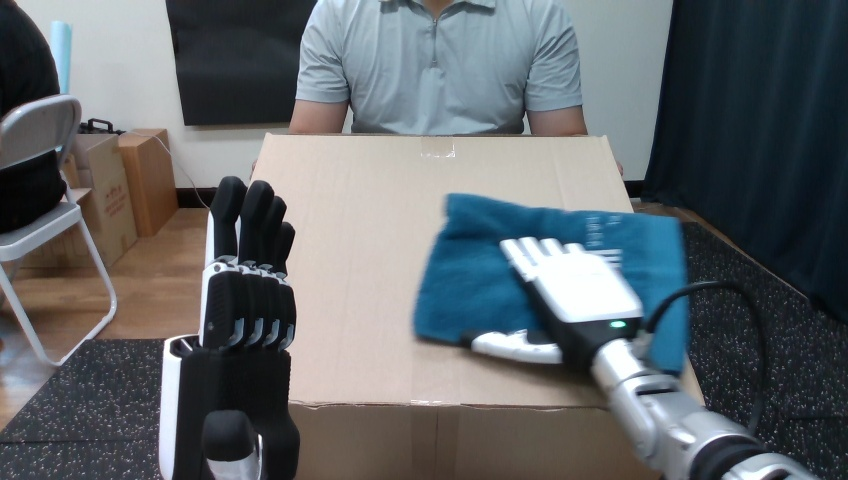left robot hand: (472, 237, 816, 479), (159, 176, 299, 478)
